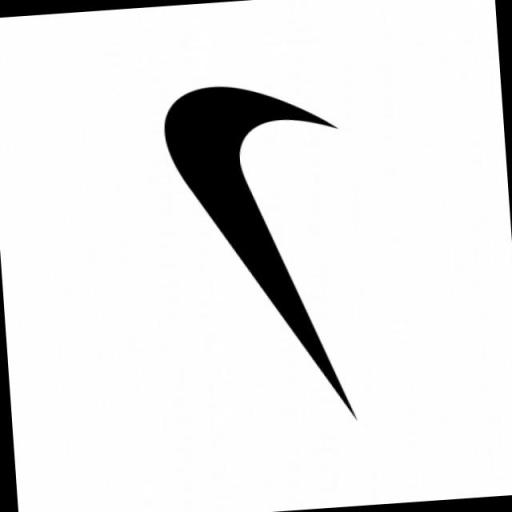Nike: (160, 78, 360, 436)
